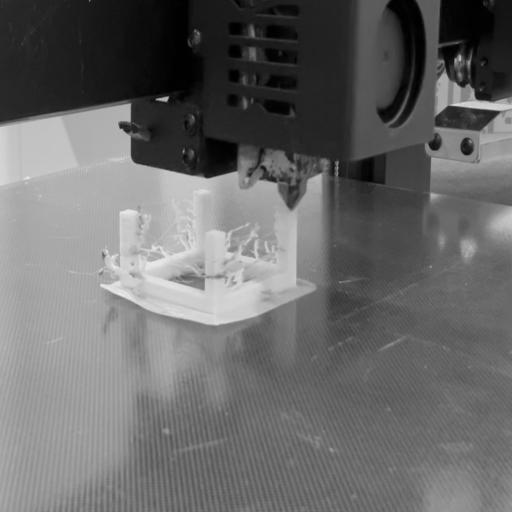spaghetti_and_stringing: (100, 193, 286, 276)
warp: (94, 281, 210, 342)
